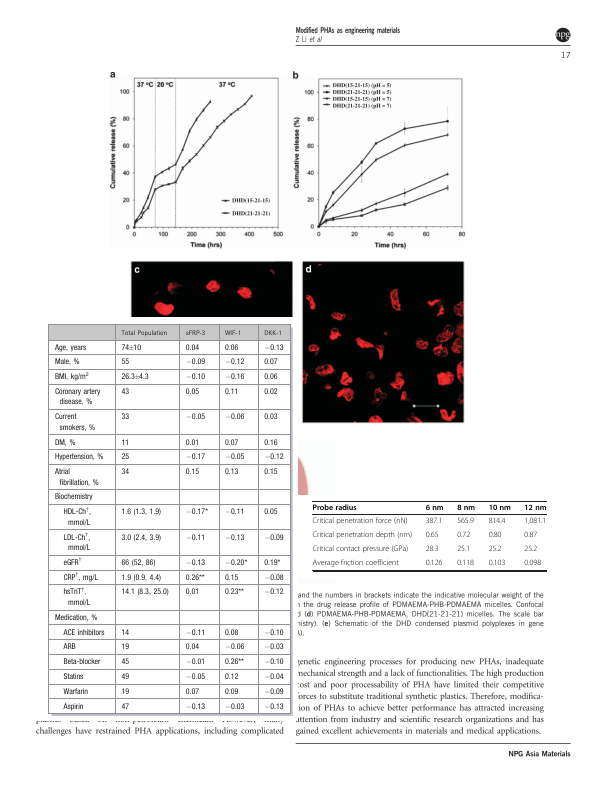bordered: (48, 322, 290, 713)
borderless: (311, 500, 546, 570)
cell: (53, 388, 101, 407), (312, 531, 413, 540), (53, 468, 99, 487), (312, 545, 409, 554), (312, 517, 408, 526), (53, 413, 96, 433), (312, 559, 400, 568), (62, 506, 91, 528), (62, 532, 91, 553), (62, 587, 91, 608), (53, 453, 104, 462), (120, 588, 169, 597), (53, 613, 98, 622), (53, 371, 89, 382), (62, 628, 105, 637), (120, 508, 162, 517), (120, 533, 162, 542), (120, 573, 162, 582), (120, 330, 167, 338), (312, 504, 358, 512), (53, 493, 93, 502), (120, 558, 156, 568), (62, 572, 98, 582), (62, 658, 101, 667), (53, 343, 87, 352), (120, 373, 149, 382), (223, 558, 248, 568), (53, 358, 80, 367), (62, 687, 89, 696), (62, 557, 82, 568), (184, 558, 206, 568), (62, 672, 84, 682), (184, 672, 206, 682), (184, 508, 208, 517), (523, 517, 547, 526), (263, 672, 284, 682), (53, 438, 76, 447), (120, 343, 142, 352), (184, 358, 206, 367), (223, 358, 245, 367), (184, 373, 206, 382), (223, 373, 245, 382), (184, 413, 206, 422), (223, 413, 245, 422), (184, 453, 206, 462), (223, 453, 245, 462), (223, 508, 245, 517), (184, 533, 206, 542), (223, 533, 245, 542), (184, 628, 206, 637), (223, 643, 245, 652), (184, 658, 206, 667), (62, 702, 84, 711), (184, 702, 206, 711), (223, 702, 245, 711), (488, 504, 512, 512), (523, 504, 547, 512), (263, 343, 284, 352), (263, 453, 284, 462), (263, 533, 284, 542), (184, 573, 205, 582), (263, 573, 284, 582), (223, 588, 244, 597), (263, 588, 284, 597), (263, 628, 284, 637), (263, 643, 284, 652), (223, 658, 244, 667), (263, 658, 284, 667), (263, 687, 284, 696), (263, 702, 284, 711), (263, 558, 281, 568), (184, 330, 206, 338), (456, 517, 475, 526), (456, 559, 475, 568), (523, 559, 542, 568), (425, 517, 443, 526), (488, 517, 506, 526), (425, 559, 443, 568), (488, 559, 506, 568), (223, 672, 239, 682), (456, 504, 476, 512), (263, 330, 282, 338), (425, 504, 444, 512), (223, 330, 241, 338), (184, 343, 200, 352), (223, 343, 239, 352), (184, 388, 200, 397), (223, 388, 239, 397), (184, 438, 200, 447), (223, 438, 239, 447), (184, 468, 200, 477), (223, 468, 239, 477), (223, 573, 239, 582), (184, 588, 200, 597), (223, 628, 239, 637), (184, 643, 200, 652), (184, 687, 200, 696), (223, 687, 239, 696), (263, 358, 278, 367), (263, 373, 278, 382), (263, 388, 278, 397), (263, 413, 278, 422), (263, 438, 278, 447), (263, 468, 278, 477), (263, 508, 278, 517), (456, 531, 471, 540), (523, 531, 538, 540), (456, 545, 471, 554), (523, 545, 538, 554), (62, 643, 76, 652), (425, 531, 439, 540), (488, 531, 502, 540), (425, 545, 439, 554), (488, 545, 502, 554), (120, 672, 130, 682), (120, 358, 130, 367), (120, 388, 130, 397), (120, 413, 130, 422), (120, 438, 130, 447), (120, 453, 130, 462), (120, 468, 130, 477), (120, 628, 130, 637), (120, 643, 130, 652), (120, 658, 130, 667), (120, 687, 130, 696), (120, 702, 130, 711)
